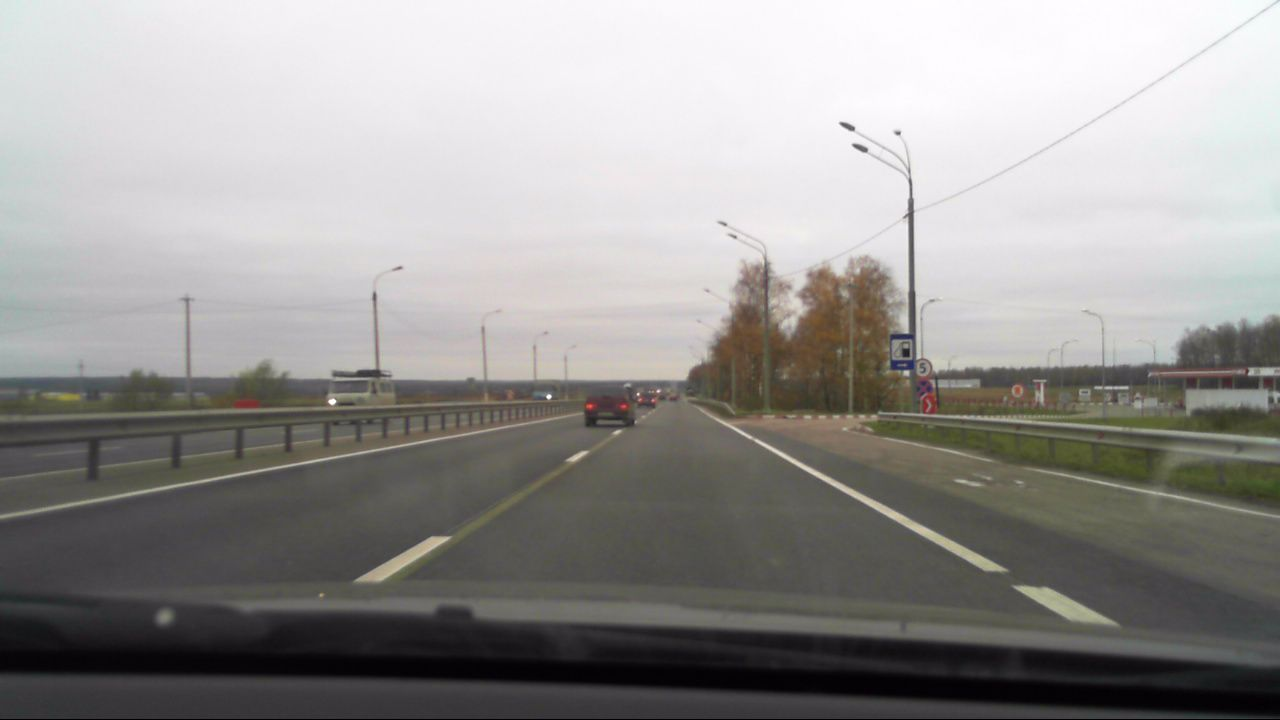No Parking: (915, 379, 932, 396)
